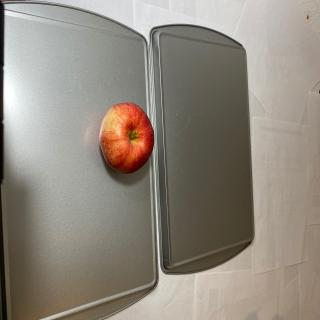Apple: (99, 102, 154, 174)
